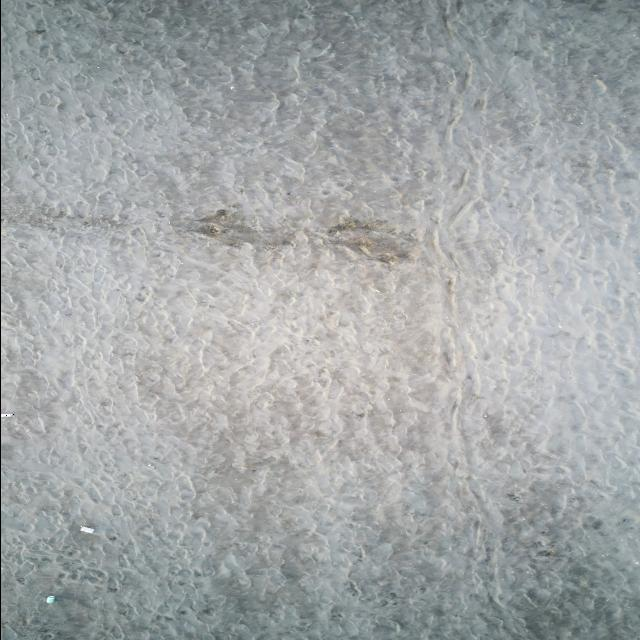Garbage: (80, 526, 94, 532), (45, 595, 55, 602), (2, 412, 13, 416)
